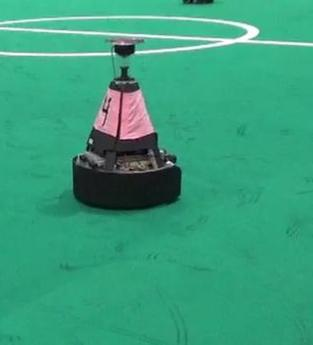robot: (66, 35, 183, 208)
